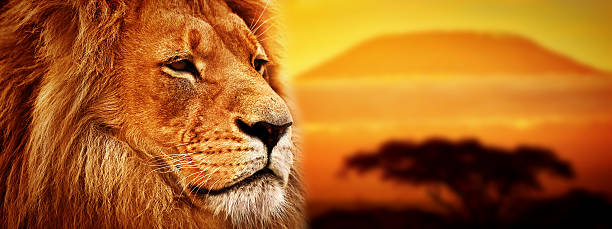lion: (3, 1, 327, 228)
